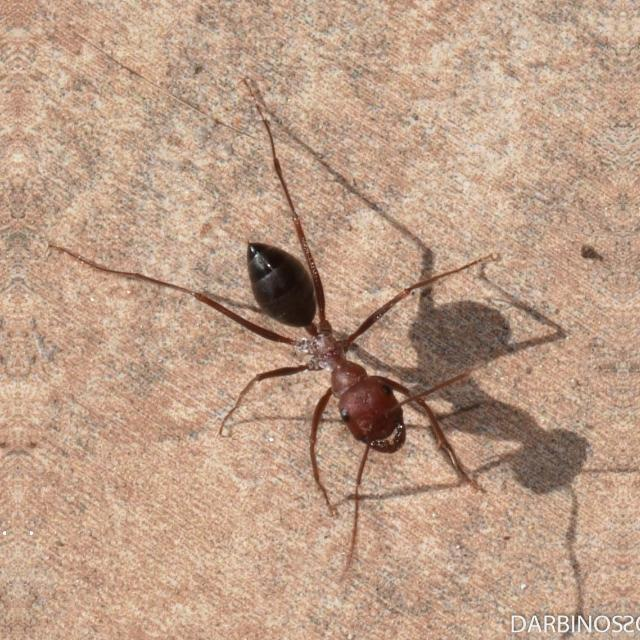Cataglyphis: (210, 217, 452, 485)
